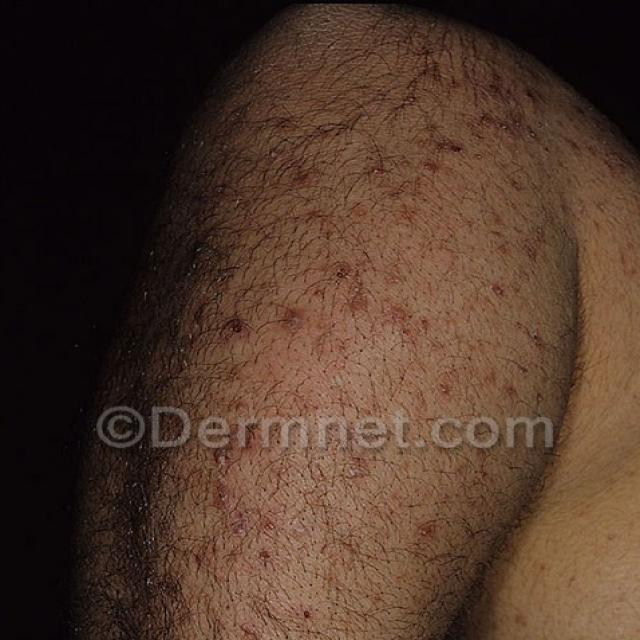Acne: (239, 42, 507, 336), (152, 399, 401, 640)
